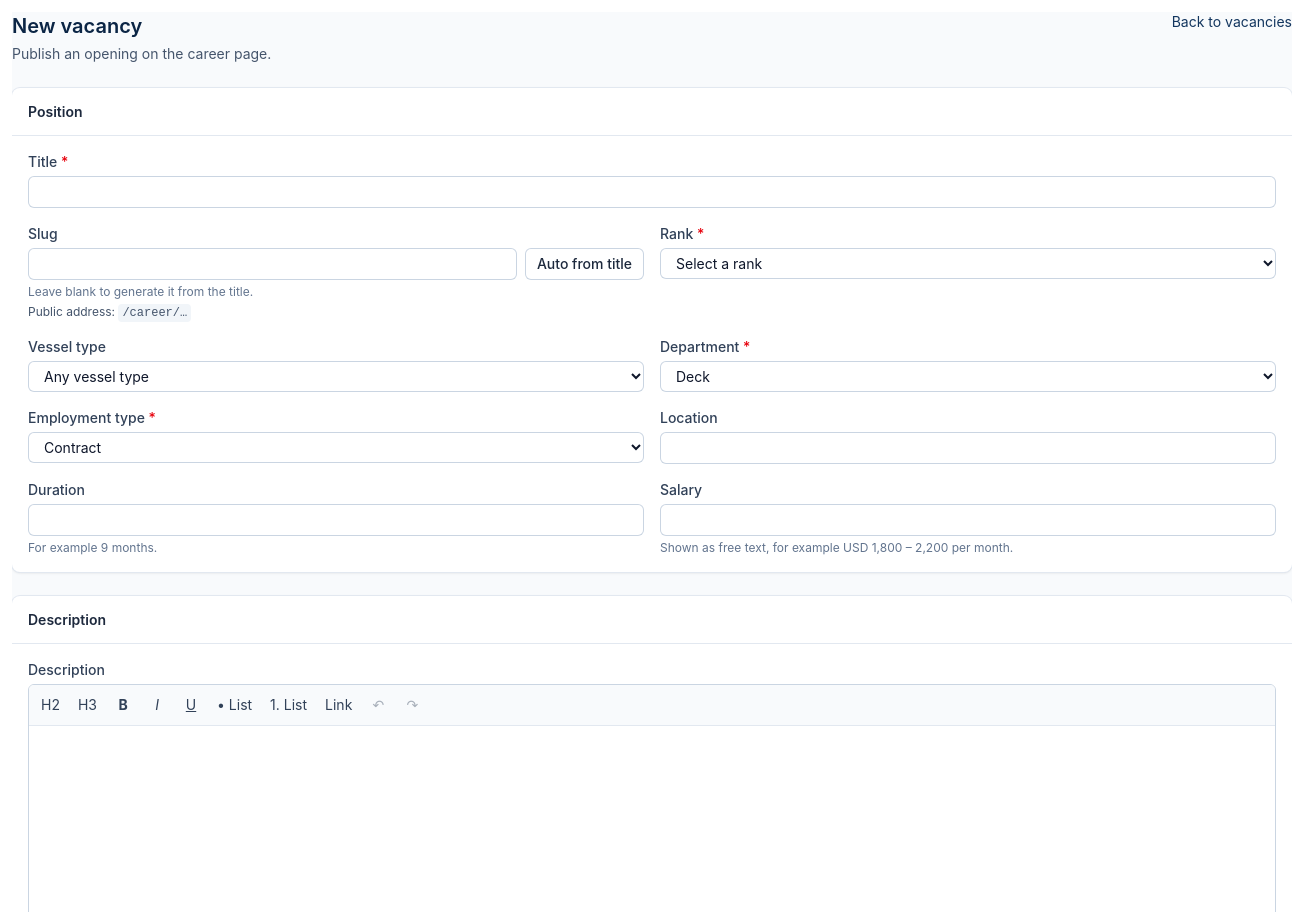
Scenario: VacancyFormPage › normalizes a typed slug in the preview
Type "Ignored" into the field labelled "Title *" at (652, 192), box [28,176,1276,208]
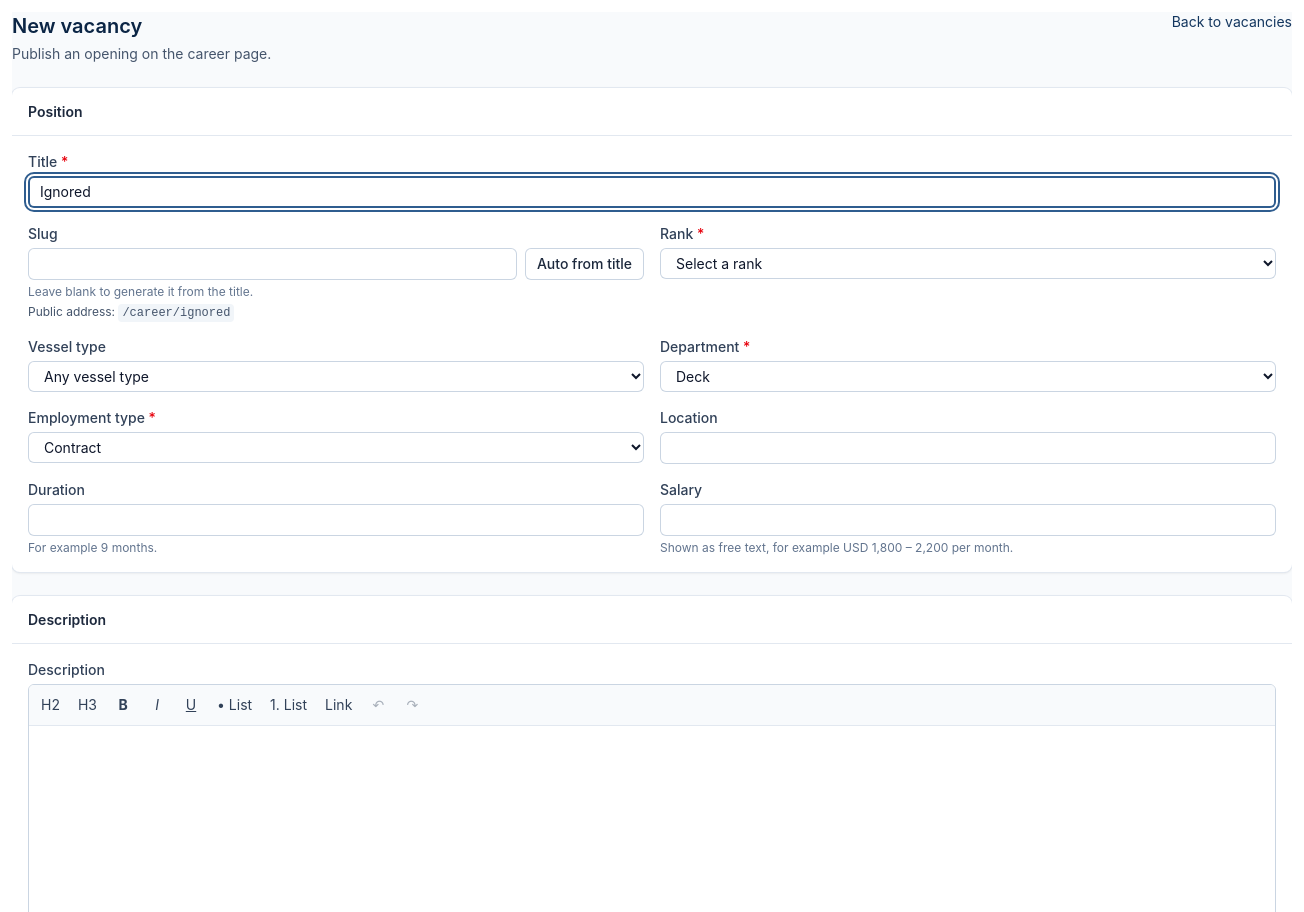
Type "My Custom  Slug!" into the field labelled "Slug" at (272, 264), box [28,248,517,280]
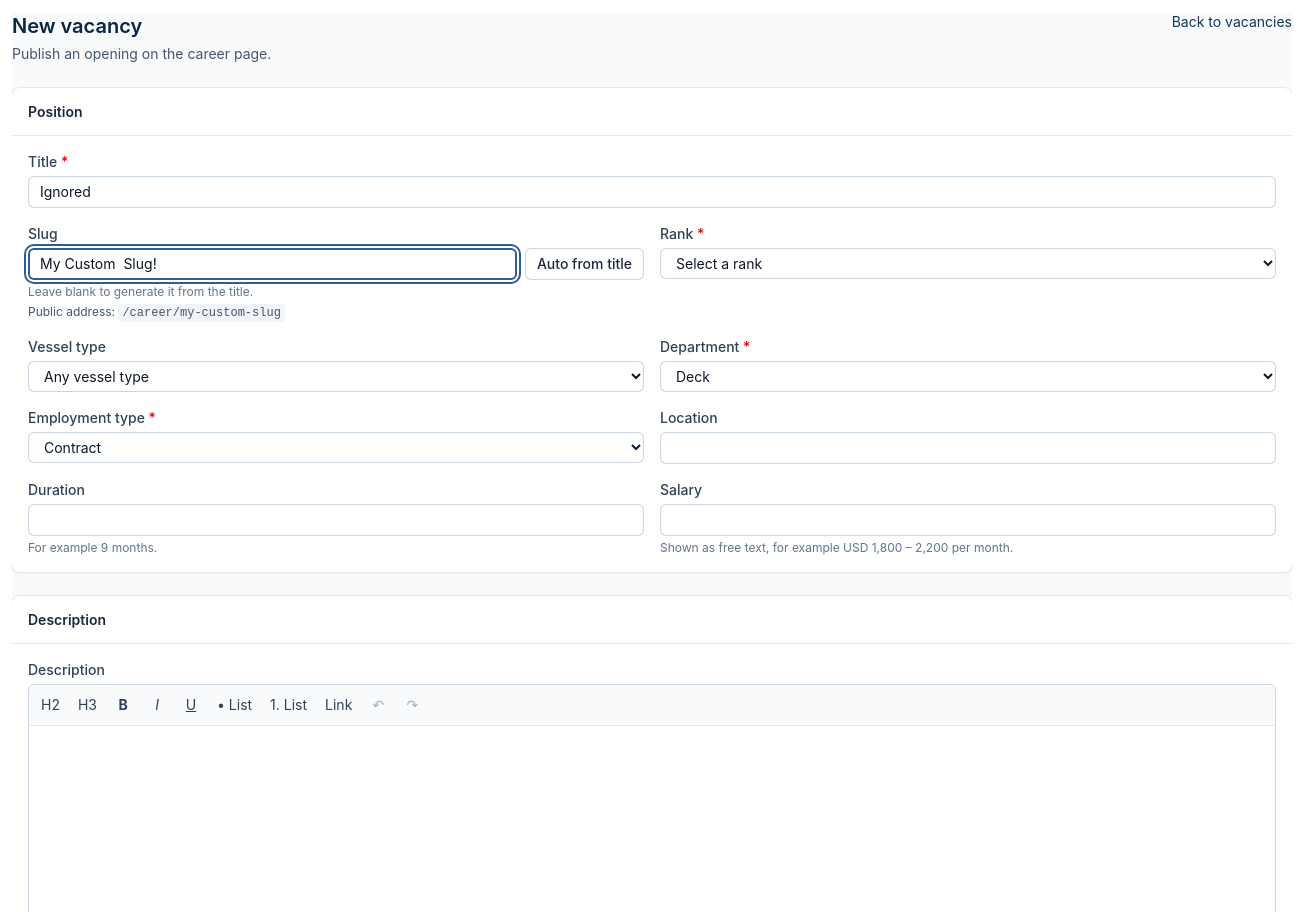
Now the text with test id "slug-preview" reads "/career/my-custom-slug", box [122,306,281,320]
